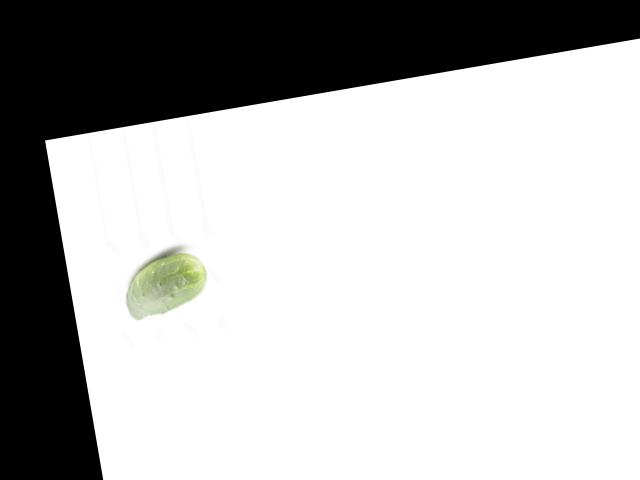cucumber: (119, 248, 212, 321)
